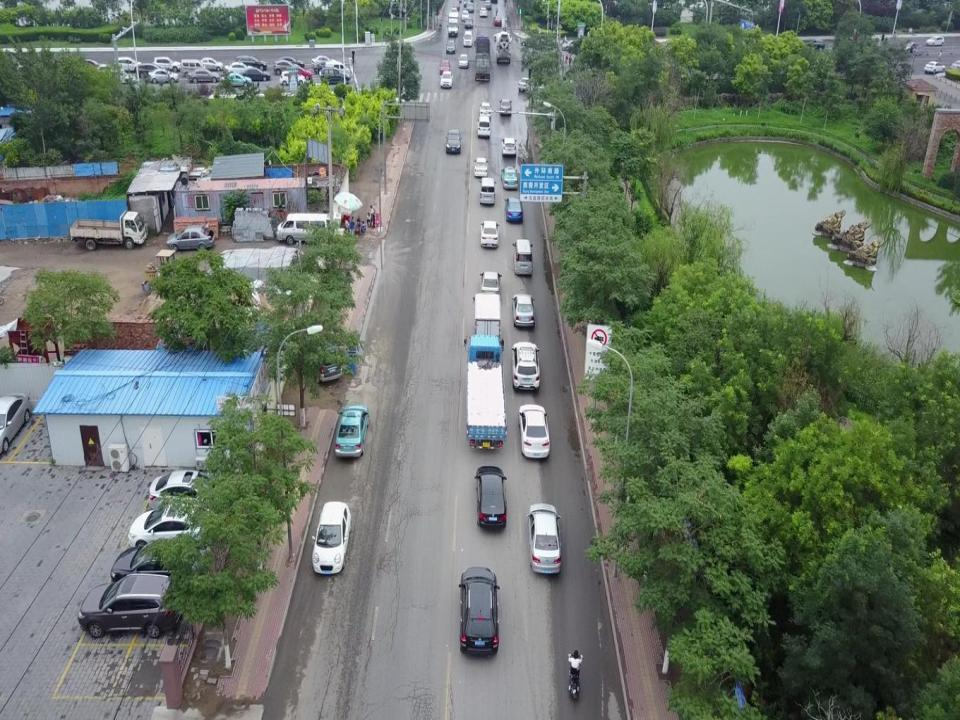car: (76, 573, 183, 639), (109, 538, 205, 591), (127, 502, 217, 552), (458, 567, 501, 656), (148, 470, 228, 514), (311, 501, 352, 575), (526, 502, 562, 576), (474, 465, 508, 532), (334, 403, 370, 459), (0, 392, 30, 459), (516, 403, 550, 460), (511, 340, 542, 392), (166, 223, 215, 252), (511, 293, 536, 329), (319, 66, 351, 86), (479, 270, 502, 297), (480, 220, 500, 250), (272, 58, 303, 76), (149, 67, 179, 85), (187, 68, 220, 84), (220, 72, 253, 88), (236, 56, 268, 72), (92, 63, 122, 80), (504, 196, 522, 223), (135, 62, 164, 78), (153, 56, 182, 72), (500, 166, 518, 191), (114, 56, 142, 72), (239, 67, 271, 81), (445, 128, 462, 154), (276, 55, 304, 70), (280, 70, 306, 86), (225, 61, 254, 75), (198, 57, 224, 72), (476, 116, 492, 139), (286, 65, 312, 79), (803, 38, 825, 54), (473, 157, 489, 178), (520, 34, 544, 48), (314, 60, 338, 74), (502, 137, 518, 157), (923, 61, 947, 74), (310, 55, 334, 68), (517, 76, 536, 92), (498, 98, 513, 116), (562, 40, 583, 52), (924, 35, 944, 47), (440, 70, 453, 88), (479, 102, 492, 119), (457, 52, 469, 68), (439, 60, 451, 74), (446, 40, 456, 55), (949, 59, 960, 71), (464, 17, 474, 28), (492, 15, 502, 26), (479, 6, 488, 18), (466, 2, 475, 13), (461, 10, 469, 22), (451, 0, 459, 10), (483, 0, 491, 9)
truck: (462, 333, 508, 452), (68, 209, 147, 249), (471, 290, 502, 348), (474, 35, 491, 82)
van: (295, 336, 344, 385), (276, 212, 332, 245), (511, 238, 534, 278), (479, 176, 497, 206), (181, 58, 206, 78), (324, 60, 349, 78), (447, 10, 459, 37), (463, 30, 472, 47)
